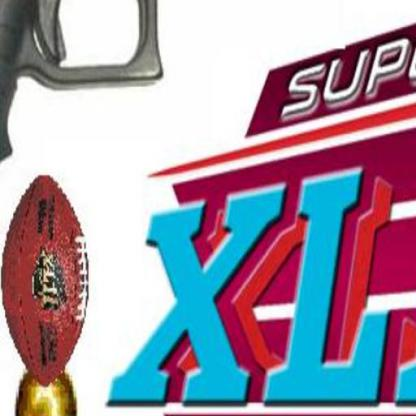gun: (0, 0, 342, 352)
